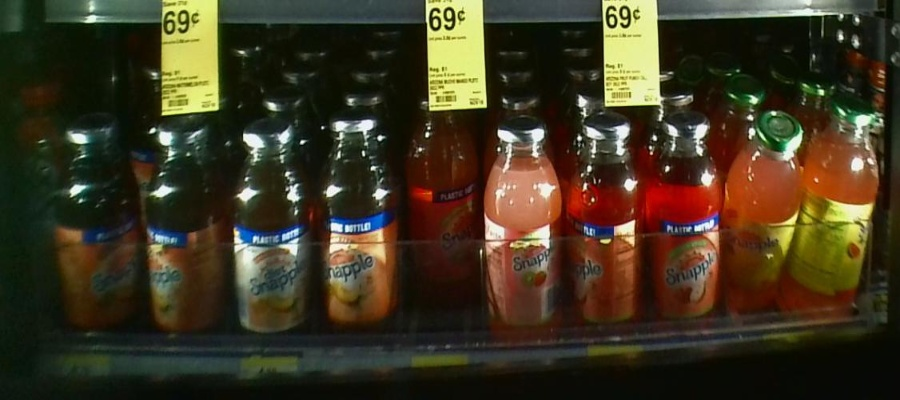bottle: (305, 103, 393, 347), (54, 106, 144, 339), (723, 101, 806, 335), (225, 113, 305, 355), (563, 101, 644, 339), (483, 99, 562, 339), (145, 110, 225, 340), (646, 100, 723, 332), (400, 88, 480, 310), (806, 95, 880, 320)
